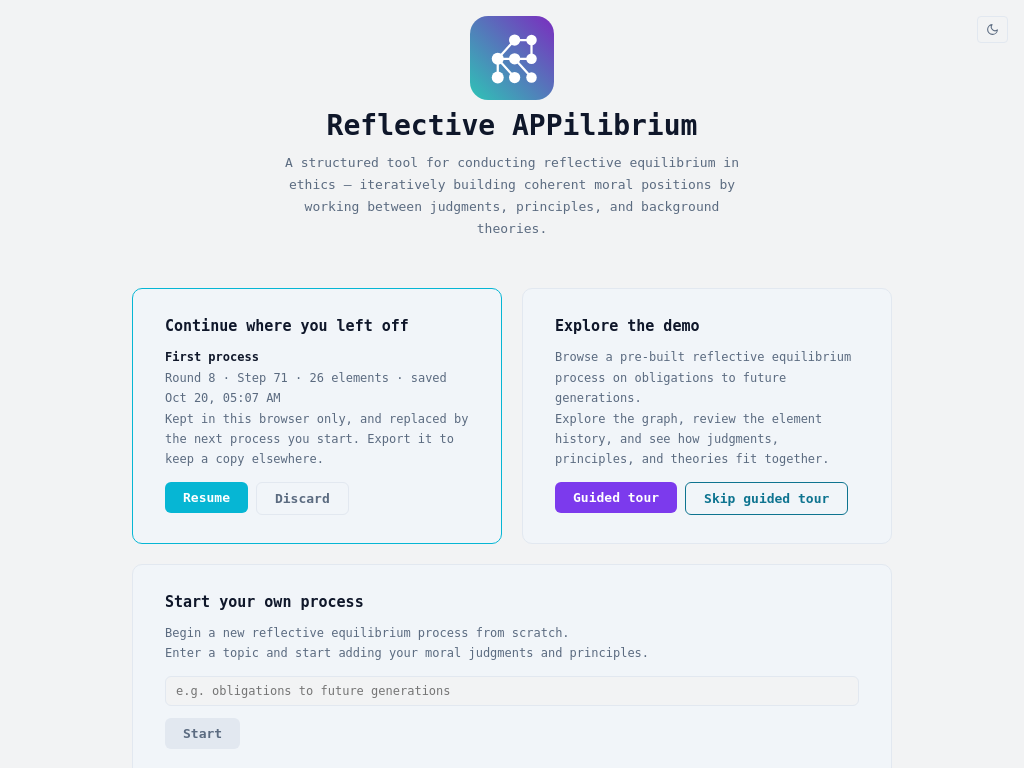
Scenario: exporting the draft from the dialog › downloads the draft with its full history, and stays open
In the field named "Topic of your reflective equilibrium process": (512, 690) [165, 676, 859, 706], type "Second process"
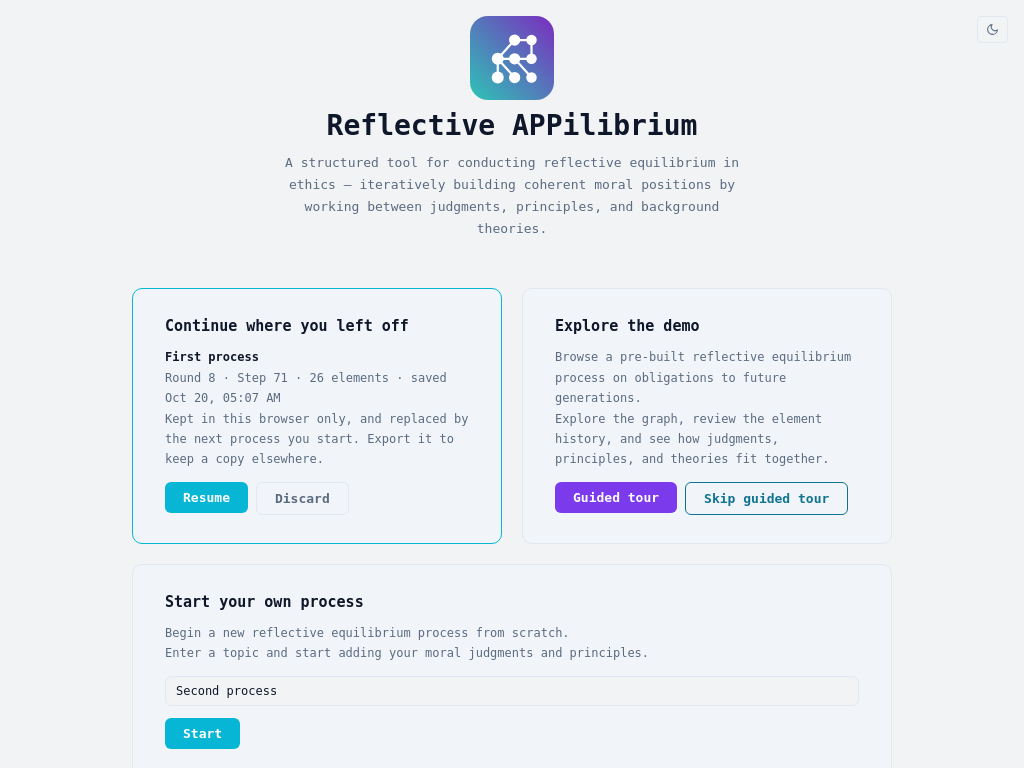
Click the button "Start": (203, 733) [165, 718, 240, 748]
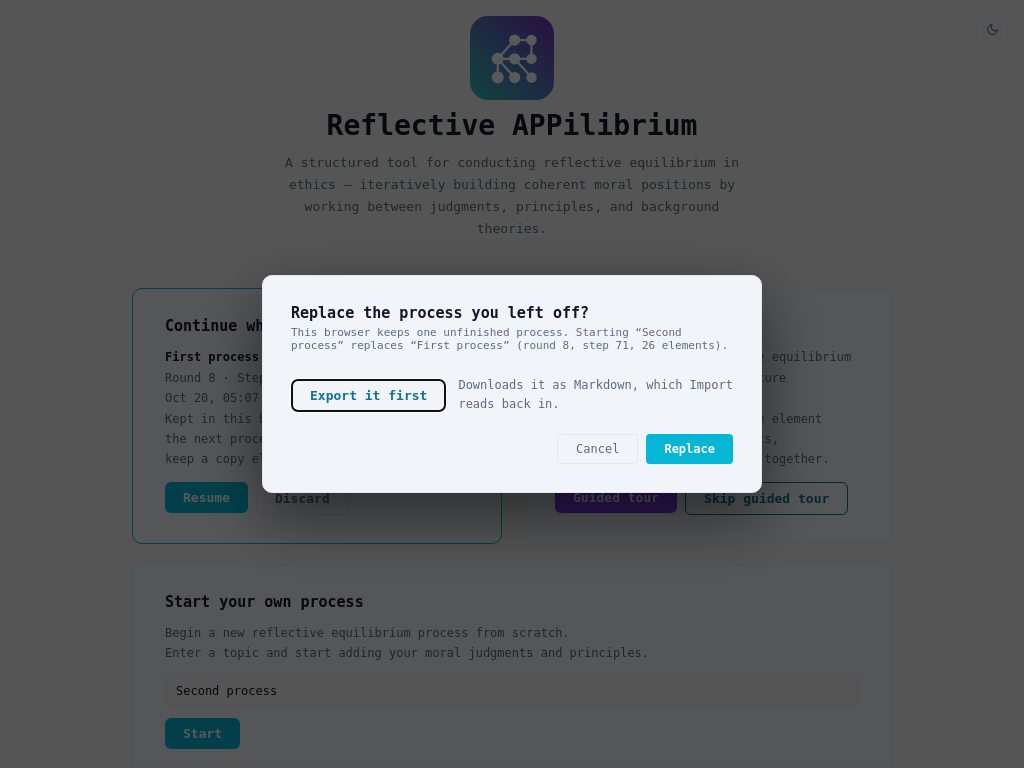
Click the button "Export it first": (369, 395) [291, 378, 446, 412]
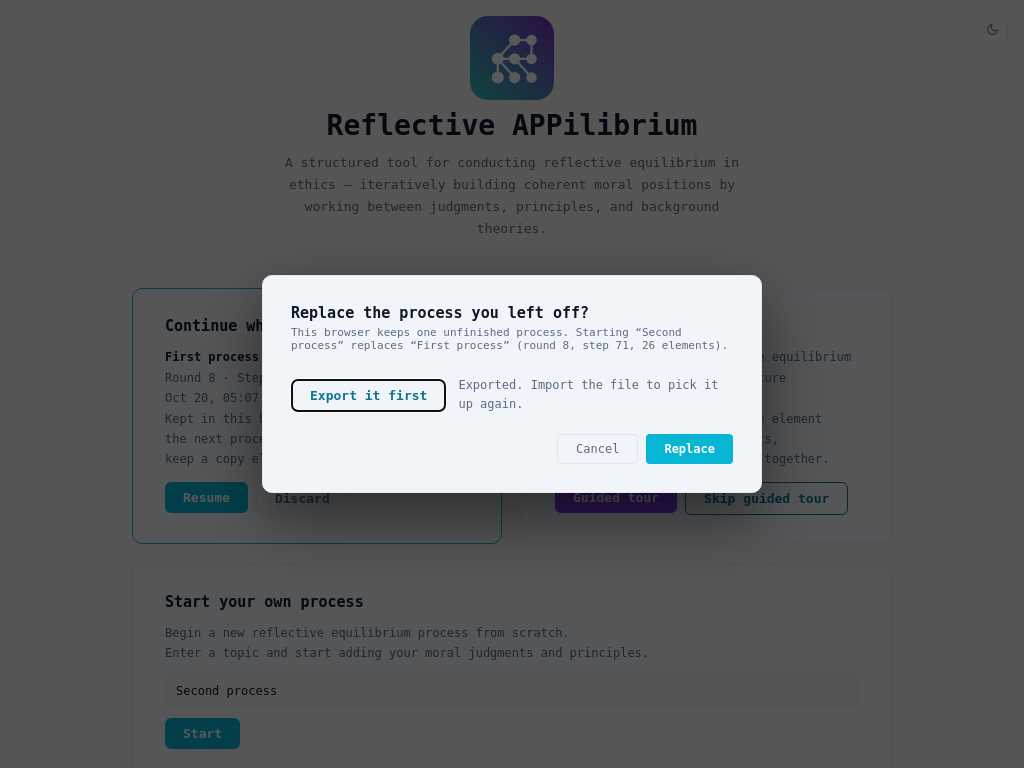
Check: the text "First process" is shown, box [165, 350, 259, 364]
Check: the dialog shows "Exported", box [458, 378, 718, 411]
